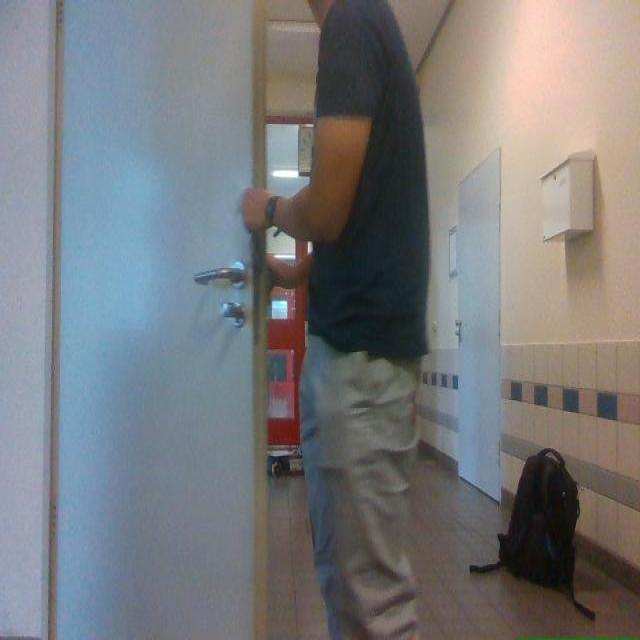objects: (470, 448, 594, 619)
